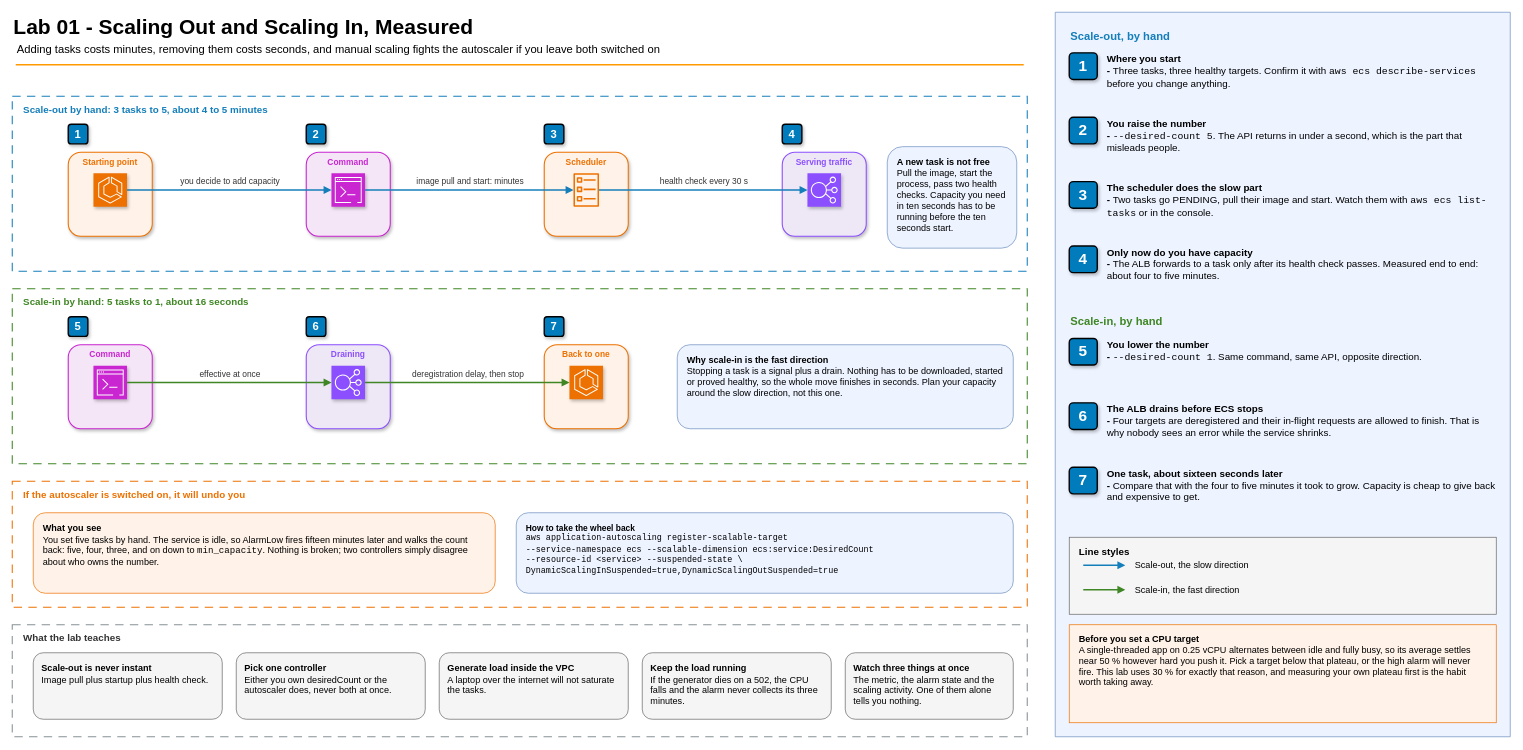
This 1523x750 diagram has some shape labels left out. The shapes that lost their labels are listed below. From the top down, each one's centre as x and y in pixels, then its label:
point 110,191: 3 tasks running 3 of 3 targets healthy
point 348,191: update-service --desired-count 5
point 586,189: 2 new tasks PENDING to RUNNING
point 824,191: 5 of 5 healthy ALB sends traffic
point 110,383: update-service --desired-count 1
point 348,383: 4 tasks deregistered connections drain first
point 586,383: 1 of 1 healthy still answering 200
